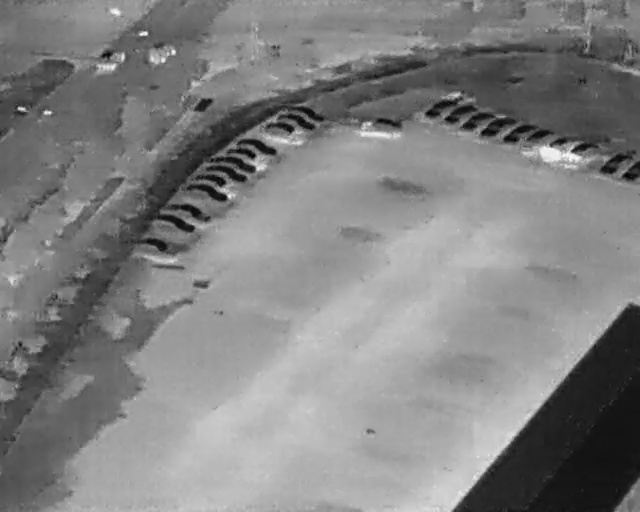Car: (537, 126, 582, 170), (560, 133, 601, 174), (259, 114, 309, 147), (477, 106, 518, 146), (598, 141, 638, 181), (499, 114, 539, 153), (516, 121, 556, 160), (161, 194, 212, 224), (181, 175, 232, 205), (145, 208, 199, 236), (130, 231, 180, 261), (421, 89, 459, 127), (441, 95, 479, 133), (457, 103, 495, 140), (208, 148, 257, 175), (201, 157, 248, 185), (272, 106, 318, 134), (143, 35, 178, 70), (93, 41, 126, 77), (280, 97, 323, 122), (236, 132, 277, 158), (359, 116, 404, 138), (192, 167, 228, 190), (226, 141, 259, 163), (622, 158, 639, 183)
